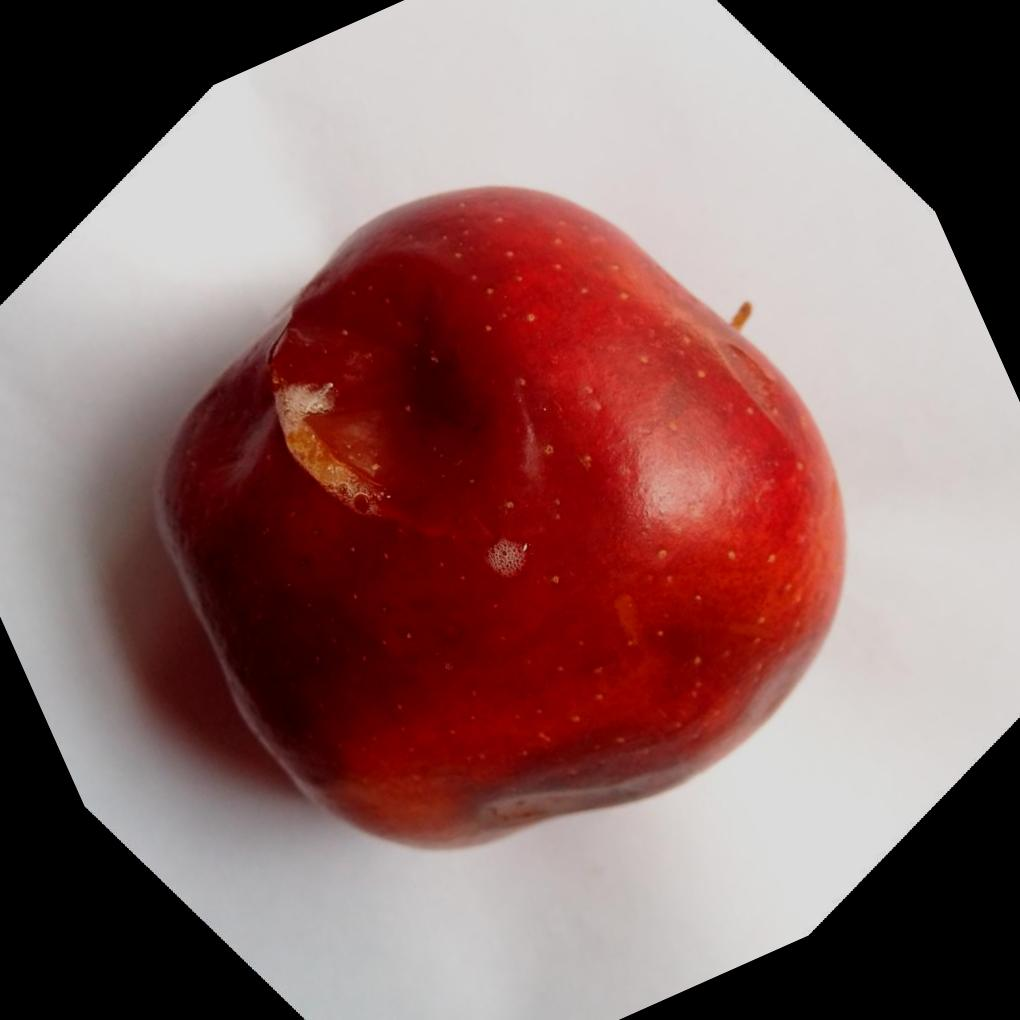FreshOrange: (150, 179, 845, 851)
